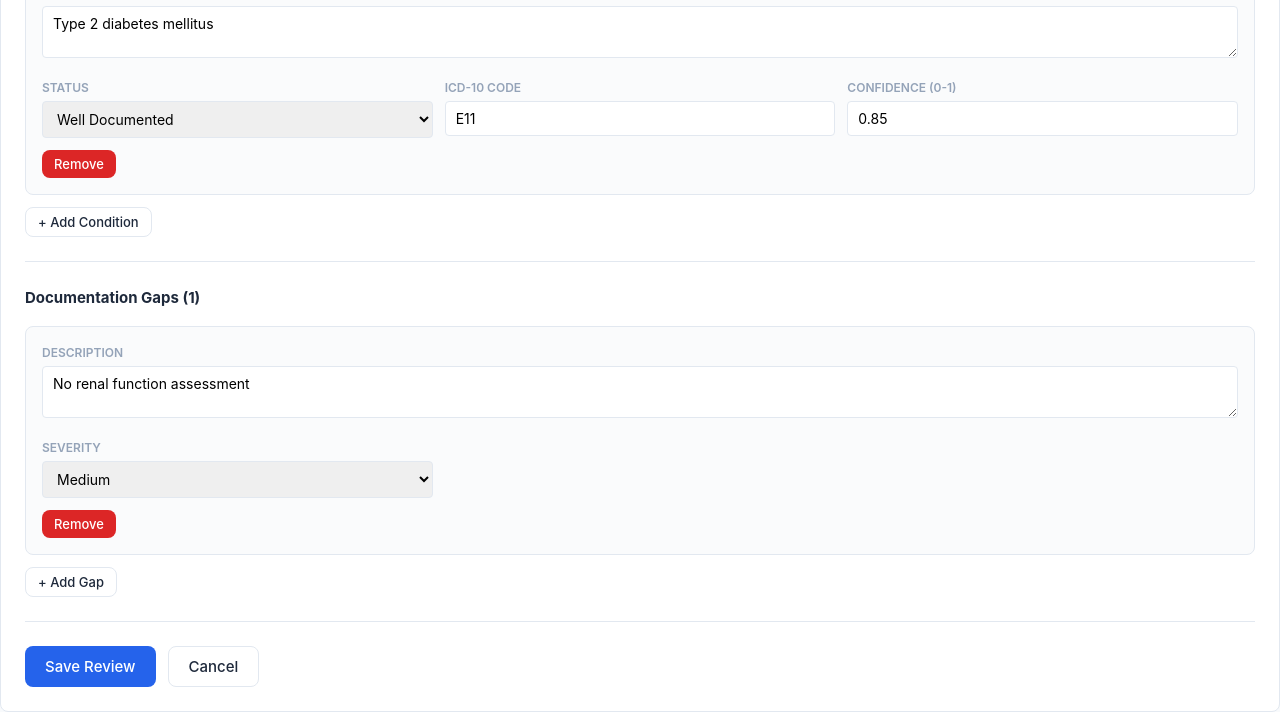
Test case: ReviewEditor › shows 'Saving...' text during save
(page scrolled)
Click the button "Save Review". click: (90, 667)
box: [25,646,156,687]
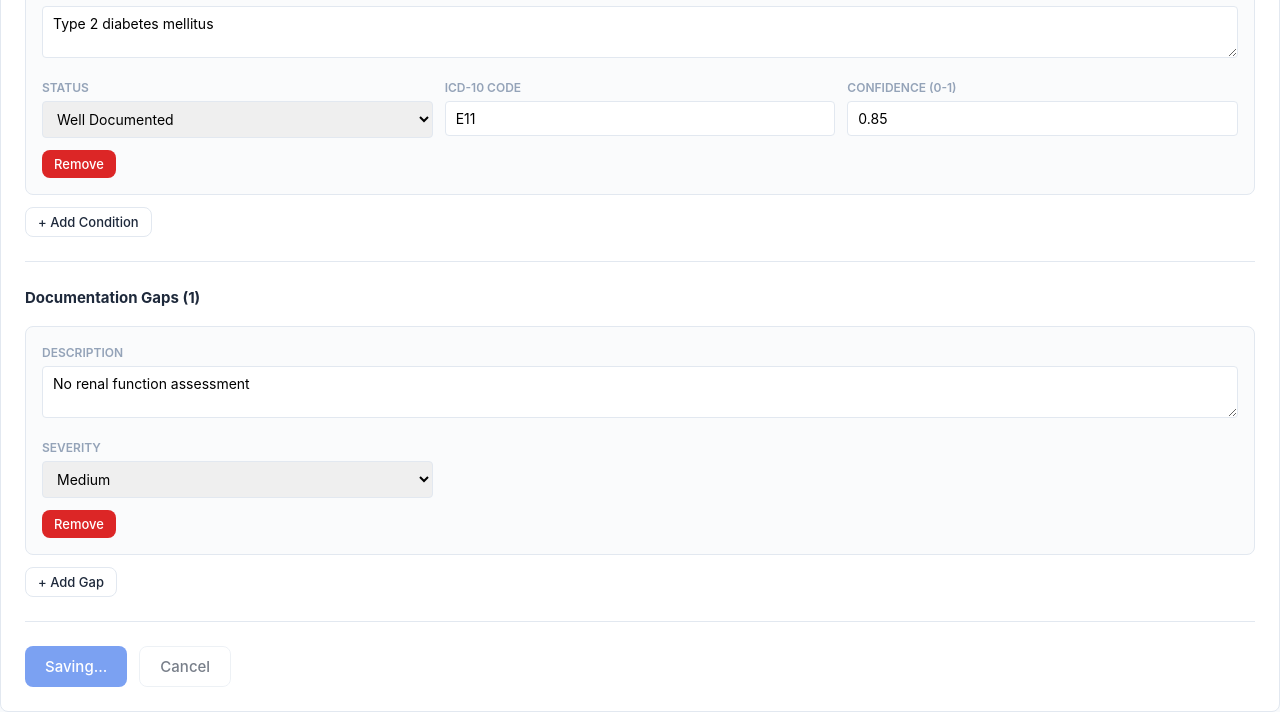
Now the button "Saving..." is shown, box [25,646,127,687]
